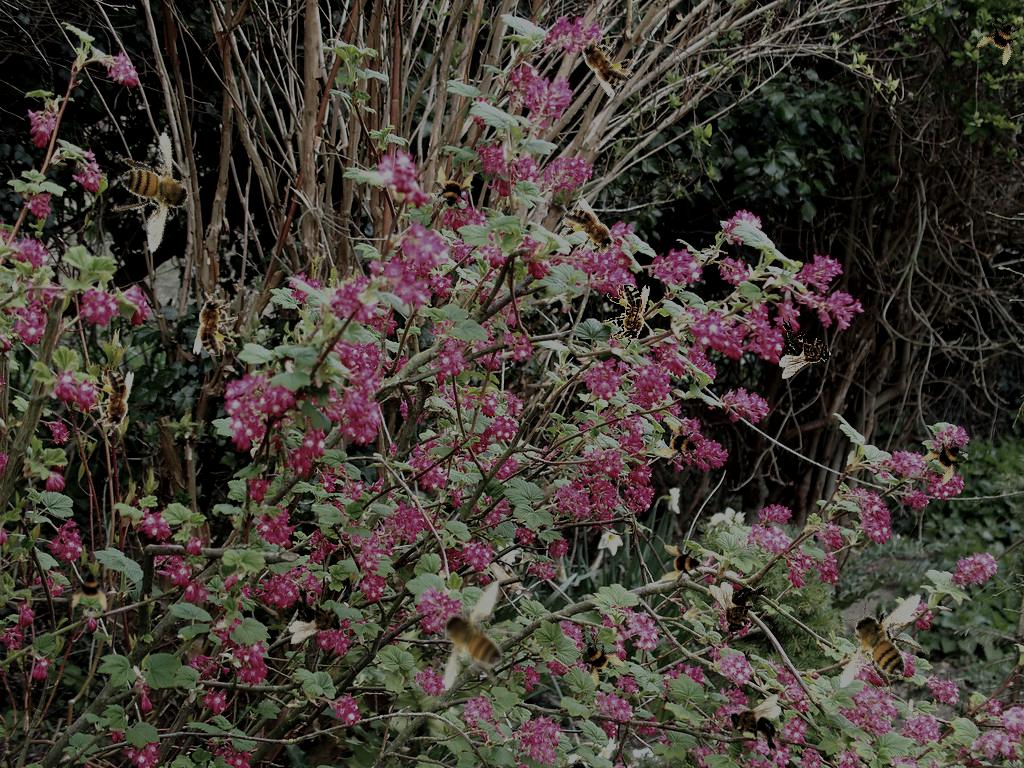Bee: (91, 125, 218, 263), (824, 576, 945, 708), (429, 580, 523, 691), (564, 20, 644, 99), (551, 195, 631, 274), (287, 582, 348, 650), (568, 627, 632, 691), (916, 428, 980, 492), (728, 694, 781, 756), (709, 582, 771, 635), (779, 317, 832, 379), (972, 9, 1024, 71), (652, 417, 708, 473), (193, 290, 238, 356), (605, 284, 650, 350), (89, 370, 134, 436), (426, 165, 476, 215), (661, 543, 705, 587), (70, 567, 114, 611)
